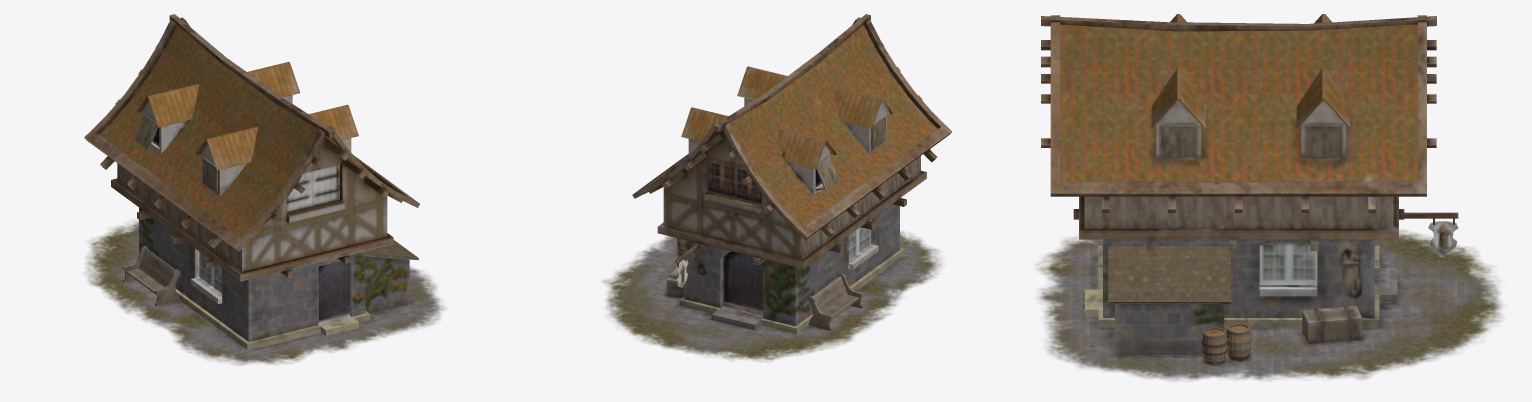
File: store.glb
The picture shows the model from 3 angles, left to right: view 1: azimuth 30°, elevation 25°; view 2: azimuth 150°, elevation 25°; view 3: azimuth 270°, elevation 25°; orthographic projection. The views are drawn at different scales.
Visible parts, largest first — view 1: defaultMaterial; view 2: defaultMaterial; view 3: defaultMaterial.
Boxes of the visible parts, box(x1,y1,x2,y2) form: defaultMaterial: box(84, 14, 445, 365); defaultMaterial: box(602, 14, 951, 361); defaultMaterial: box(1036, 14, 1503, 381).
Bounding box in the file's own units: 4.09 × 3 × 4.92.
1 material, 1 textured.
